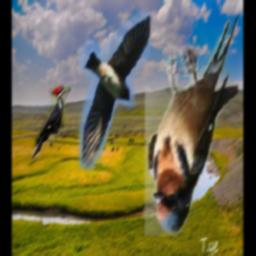Swallow: (146, 14, 239, 237), (80, 11, 151, 171)
Woodpecker: (31, 86, 71, 160)
